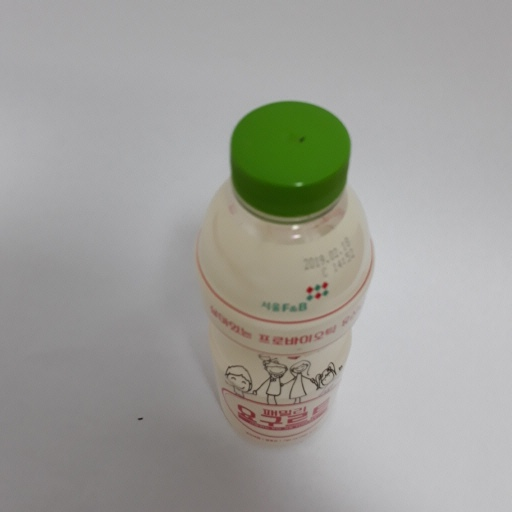Plastic_0: (194, 101, 377, 446)
